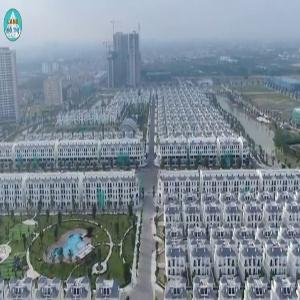drone: (65, 206, 116, 257)
